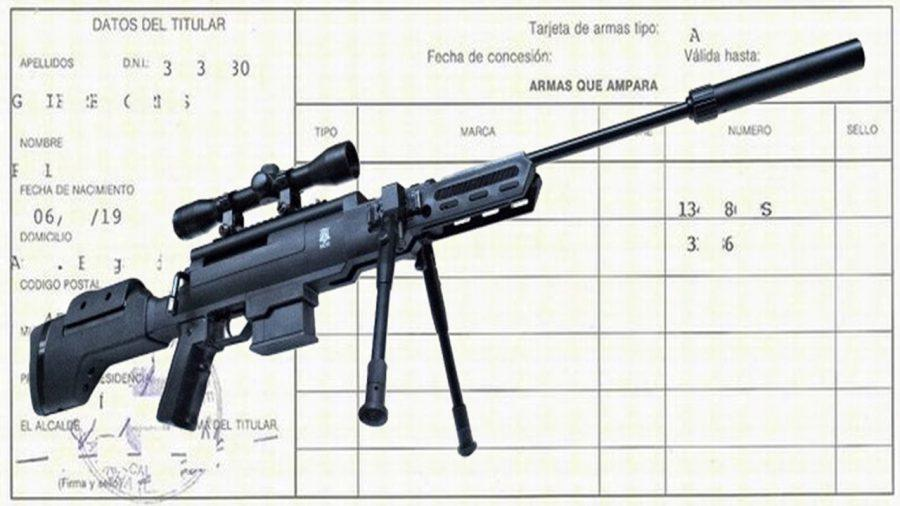larga: (28, 36, 867, 458)
